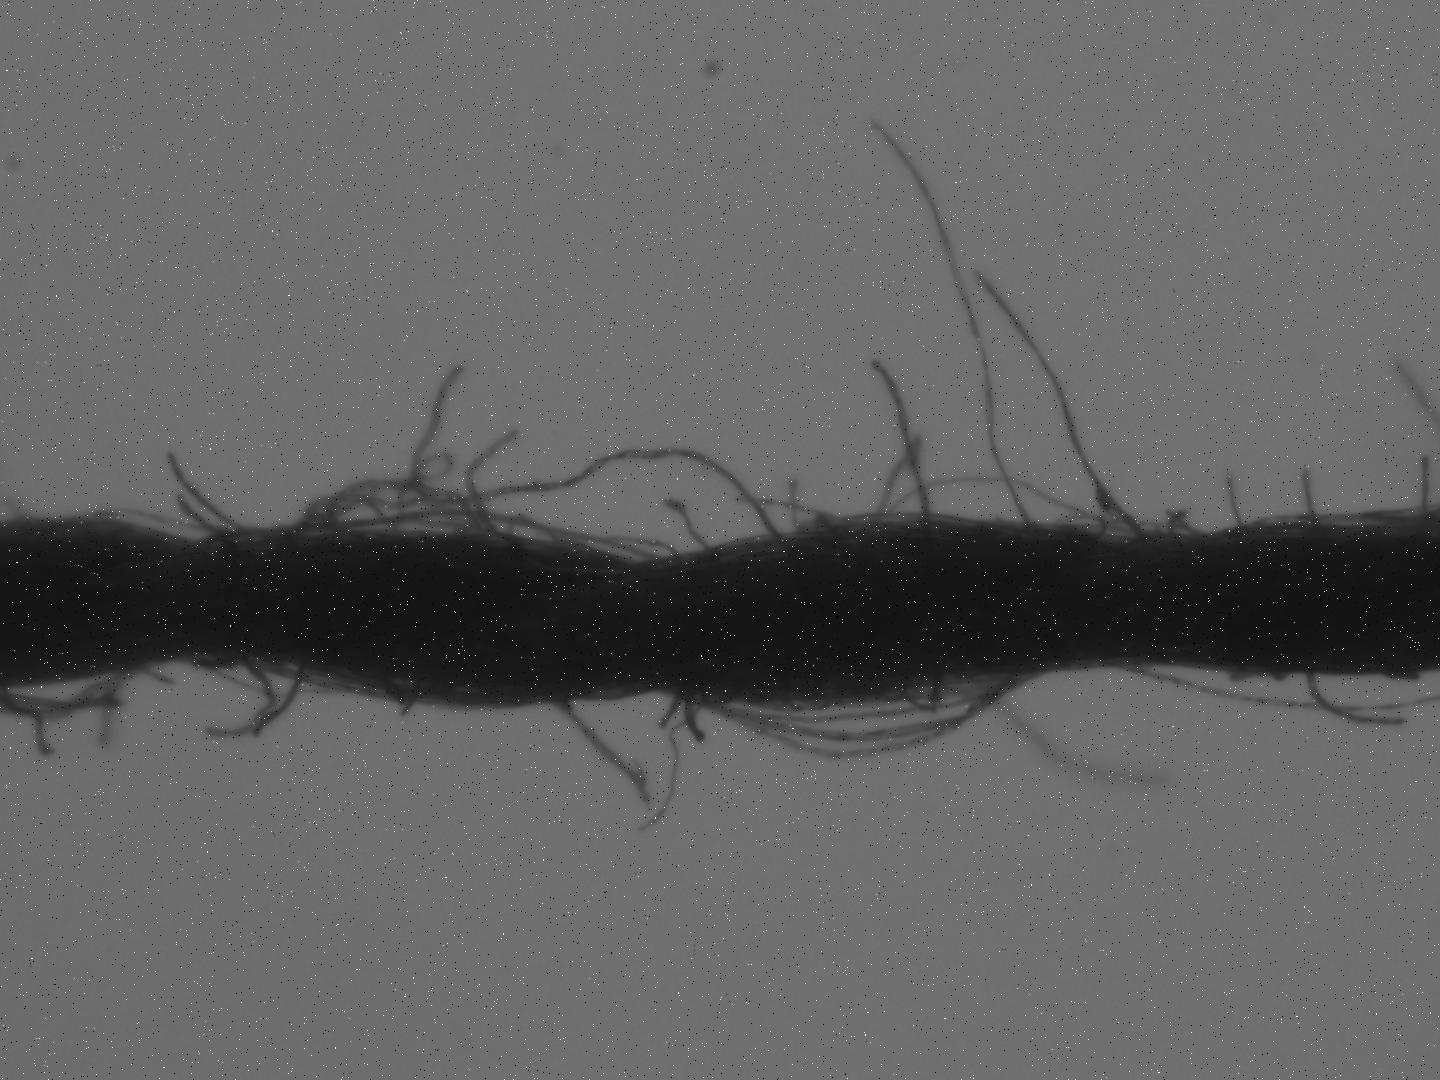loop_fiber: (169, 442, 803, 580), (633, 649, 1064, 766), (865, 470, 1112, 552), (505, 512, 560, 557)
protruding_fiber: (967, 252, 1157, 550), (660, 495, 714, 559), (1297, 463, 1322, 531)
